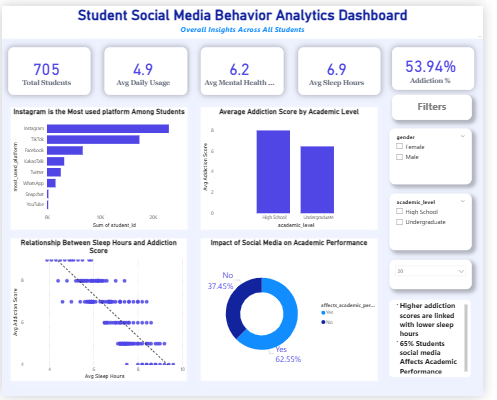

The dashboard page shown, as its layout file describes it:
{"tool":"powerbi","page":{"name":"Overview","canvas":[1284,1042],"ordinal":0},"visuals":[{"type":"card","fields":{"Values":["cleaned_student_social_media_data.Row Count Test"]},"box":[15.1,110.6,219.5,127.3],"z":0},{"type":"card","fields":{"Values":["cleaned_student_social_media_data.Avg Daily Usage"]},"box":[273.1,110.6,221.2,127.3],"z":1000},{"type":"card","fields":{"Values":["cleaned_student_social_media_data.Avg Mental Health Score"]},"box":[531.2,110.6,221.2,127.3],"z":2000},{"type":"card","fields":{"Values":["cleaned_student_social_media_data.Avg Sleep Hours"]},"box":[789.2,110.6,219.5,127.3],"z":3000},{"type":"card","fields":{"Values":["cleaned_student_social_media_data.Addiction %"]},"box":[1040.6,110.6,219.5,113.9],"z":4000},{"type":"clusteredBarChart","title":"Instagram is the Most used platform Among Students","fields":{"Category":["cleaned_student_social_media_data.most_used_platform"],"Y":["Sum(cleaned_student_social_media_data.student_id)"]},"box":[23.5,271.4,470.8,326.7],"z":5000},{"type":"columnChart","title":"Average Addiction Score by Academic Level","fields":{"Category":["cleaned_student_social_media_data.academic_level"],"Y":["cleaned_student_social_media_data.Avg Addiction Score"]},"box":[531.2,271.4,470.8,326.7],"z":6000},{"type":"donutChart","title":"Impact of Social Media on Academic Performance","fields":{"Category":["cleaned_student_social_media_data.affects_academic_performance"],"Y":["Sum(cleaned_student_social_media_data.student_id)"]},"box":[531.2,620,470.8,380.4],"z":7000},{"type":"scatterChart","title":"Relationship Between Sleep Hours and Addiction Score","fields":{"X":["cleaned_student_social_media_data.Avg Sleep Hours"],"Y":["cleaned_student_social_media_data.Avg Addiction Score"],"Category":["cleaned_student_social_media_data.student_id"]},"box":[23.5,620,469.2,380.4],"z":8000},{"type":"slicer","fields":{"Values":["cleaned_student_social_media_data.gender"]},"box":[1033.9,325.1,219.5,149.1],"z":9000},{"type":"slicer","fields":{"Values":["cleaned_student_social_media_data.academic_level"]},"box":[1033.9,499.3,219.5,150.8],"z":10000},{"type":"slicer","fields":{"Values":["cleaned_student_social_media_data.age"]},"box":[1033.9,675.3,219.5,78.8],"z":11000},{"type":"textbox","box":[1040.6,237.9,212.8,67],"z":12000},{"type":"textbox","box":[1033.9,782.5,217,206.1],"z":13000},{"type":"textbox","title":"Student Social Media Behavior Analytics Dashboard","box":[0,0,1283.3,87.3],"z":14000}]}

Visuals, with their boxes in screenshot pixels (x1, y1, x2, y2), scaled from the page's 1284x1042 canvas onto the 497x400 screenshot:
card - cleaned_student_social_media_data.Row Count Test: 6 42 91 91
card - cleaned_student_social_media_data.Avg Daily Usage: 106 42 191 91
card - cleaned_student_social_media_data.Avg Mental Health Score: 206 42 291 91
card - cleaned_student_social_media_data.Avg Sleep Hours: 305 42 390 91
card - cleaned_student_social_media_data.Addiction %: 403 42 488 86
"Instagram is the Most used platform Among Students" clusteredBarChart: 9 104 191 230
"Average Addiction Score by Academic Level" columnChart: 206 104 388 230
"Impact of Social Media on Academic Performance" donutChart: 206 238 388 384
"Relationship Between Sleep Hours and Addiction Score" scatterChart: 9 238 191 384
slicer - cleaned_student_social_media_data.gender: 400 125 485 182
slicer - cleaned_student_social_media_data.academic_level: 400 192 485 250
slicer - cleaned_student_social_media_data.age: 400 259 485 289
textbox: 403 91 485 117
textbox: 400 300 484 380
"Student Social Media Behavior Analytics Dashboard" textbox: 0 0 496 34
